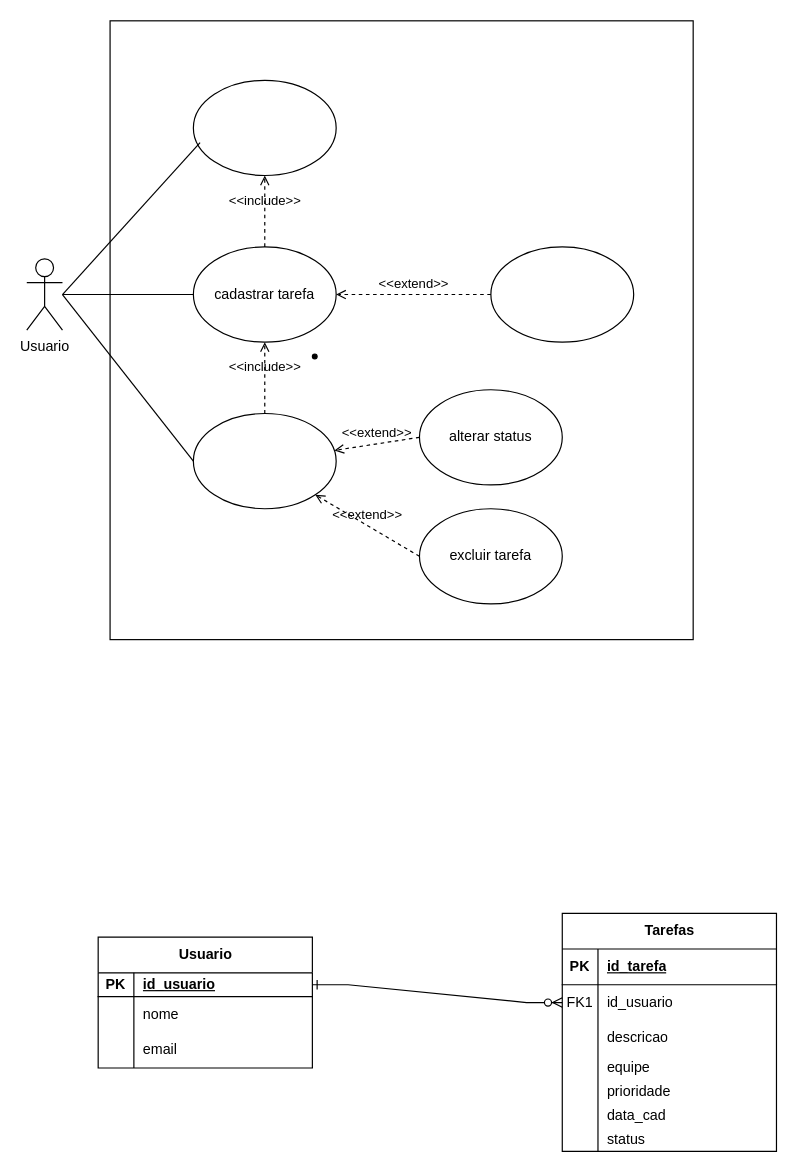
This 797x1172 diagram has some shape labels left out. Here are the shapes that lost their labels. From the top down, the box of each, then its label:
(192, 79, 336, 176): cadastrar usuario
(490, 246, 634, 342): editar tarefa
(192, 412, 336, 509): gerenciar tarefa
